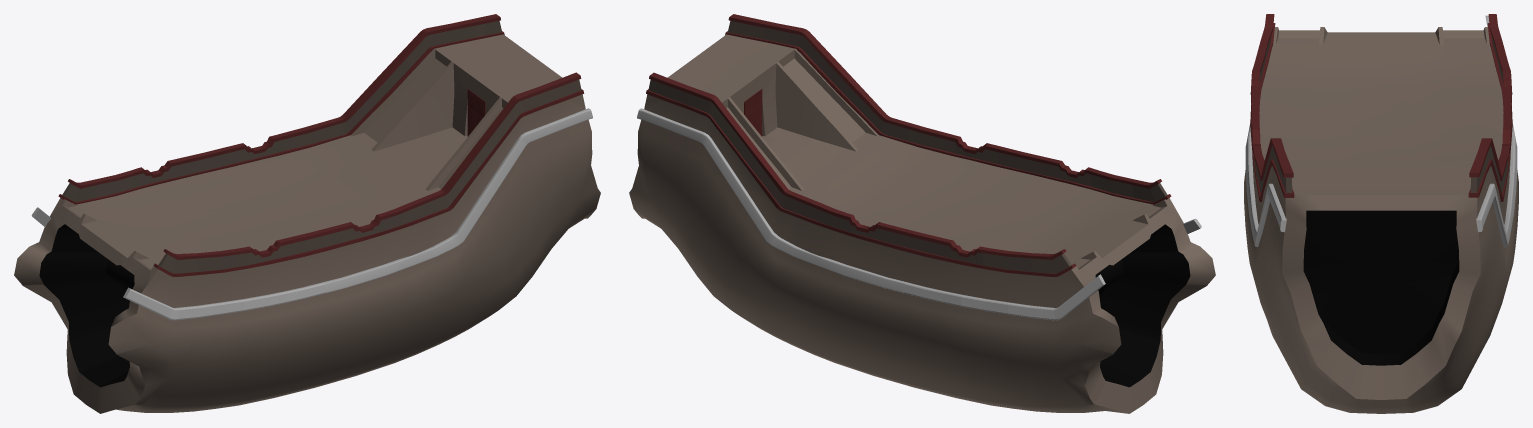
Rendered from Broken_Ship_5.fbx.
3 renders of one model, left to right at view 1: azimuth 30°, elevation 25°; view 2: azimuth 150°, elevation 25°; view 3: azimuth 270°, elevation 25°, orthographic. The views are drawn at different scales.
Parts seen in each view (by area): view 1: Broken_Ship_5; view 2: Broken_Ship_5; view 3: Broken_Ship_5.
Boxes of the visible parts, box(x1,y1,x2,y2) form: Broken_Ship_5: box(14, 14, 600, 413); Broken_Ship_5: box(629, 14, 1215, 413); Broken_Ship_5: box(1244, 14, 1518, 413).
Size of the model in its own units: 11.04 by 5.49 by 4.38.
